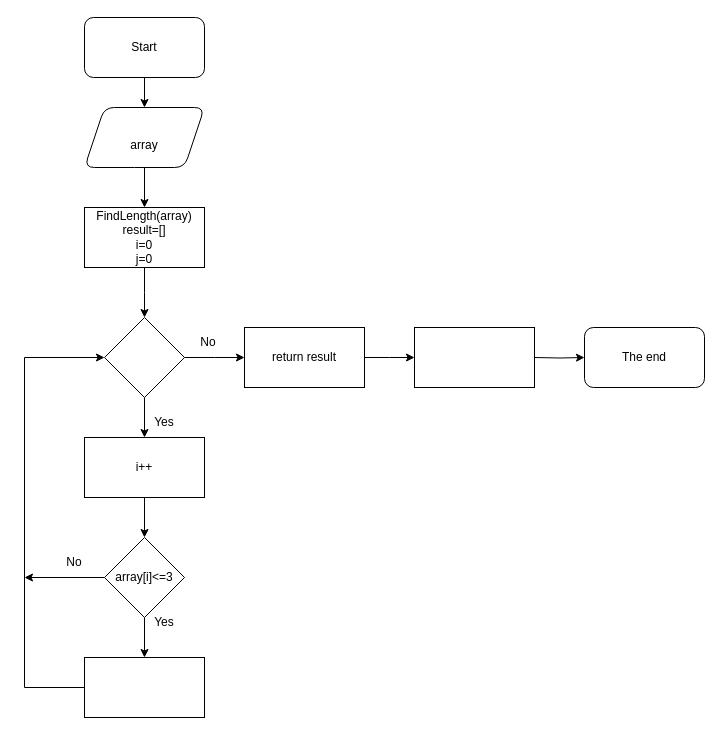
The diagram is 722 pixels wide and 735 high, and some of its shapes have lost their labels. Each missing label, with the centre of its shape:
"i<array.size" belongs at point (144, 357).
"print result" belongs at point (474, 357).
"result+1 result[j] = array[i] j++" belongs at point (144, 687).
